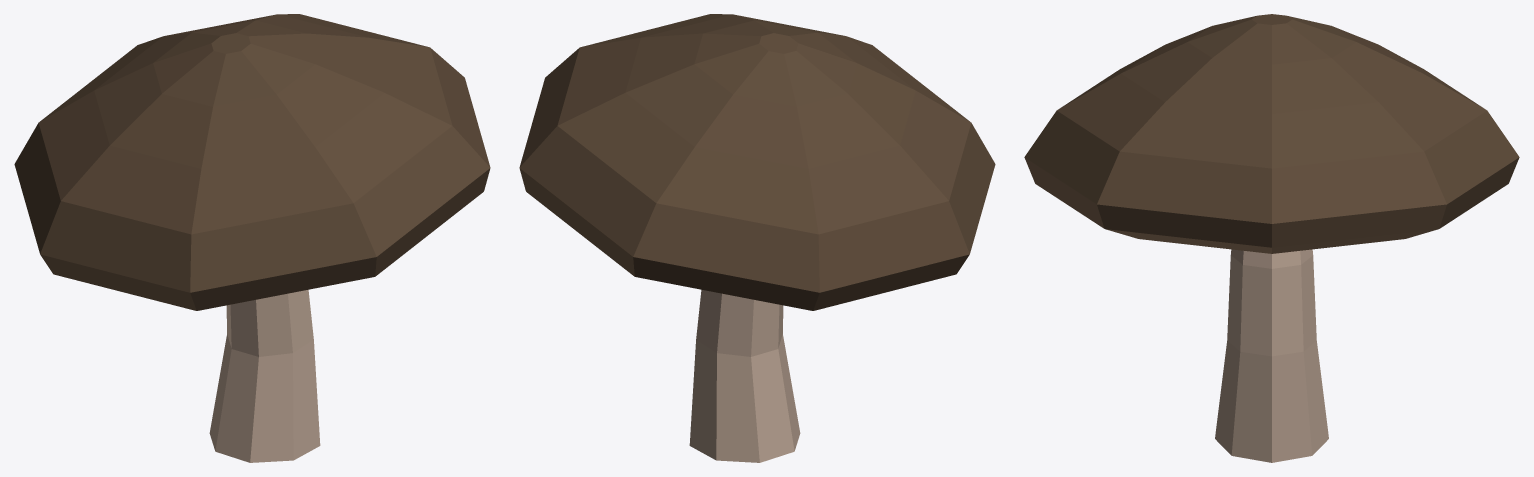
File: floresta_mushroom_brown_medium.glb
The picture shows the model from 3 angles, left to right: view 1: azimuth 30°, elevation 25°; view 2: azimuth 150°, elevation 25°; view 3: azimuth 270°, elevation 25°; orthographic projection.
Parts seen in each view (by area): view 1: Brown Mushroom middle f; view 2: Brown Mushroom middle f; view 3: Brown Mushroom middle f.
Part boxes in pixels (x1,y1,x2,y2): Brown Mushroom middle f: [14, 14, 490, 462]; Brown Mushroom middle f: [519, 14, 995, 462]; Brown Mushroom middle f: [1024, 14, 1519, 462].
Size of the model in its own units: 0.6092 by 0.5583 by 0.6174.
